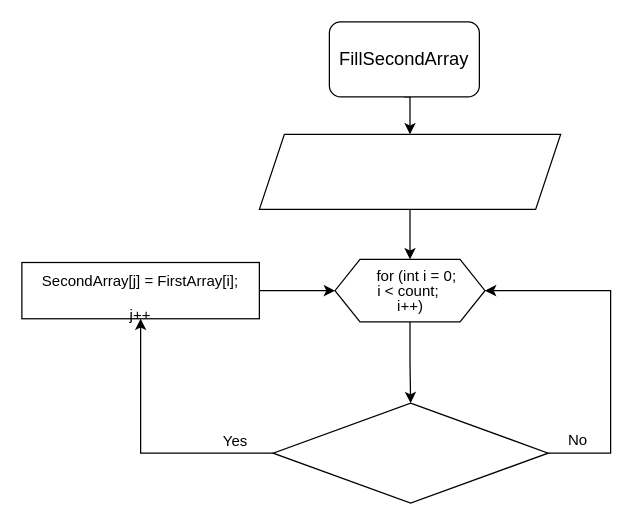
The diagram is 643 pixels wide and 525 high, and some of its shapes have lost their labels. The shapes that lost their labels are listed below. From the top down, each one's centre as x and y in pixels, then its label:
At (409,171): "string[] FirstArray, string[] SecondArray int j = 0".
At (410,452): "if (FirstArray[i].Length <= 3)".
